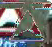Speed Breaker ahead: (1, 4, 44, 46)
